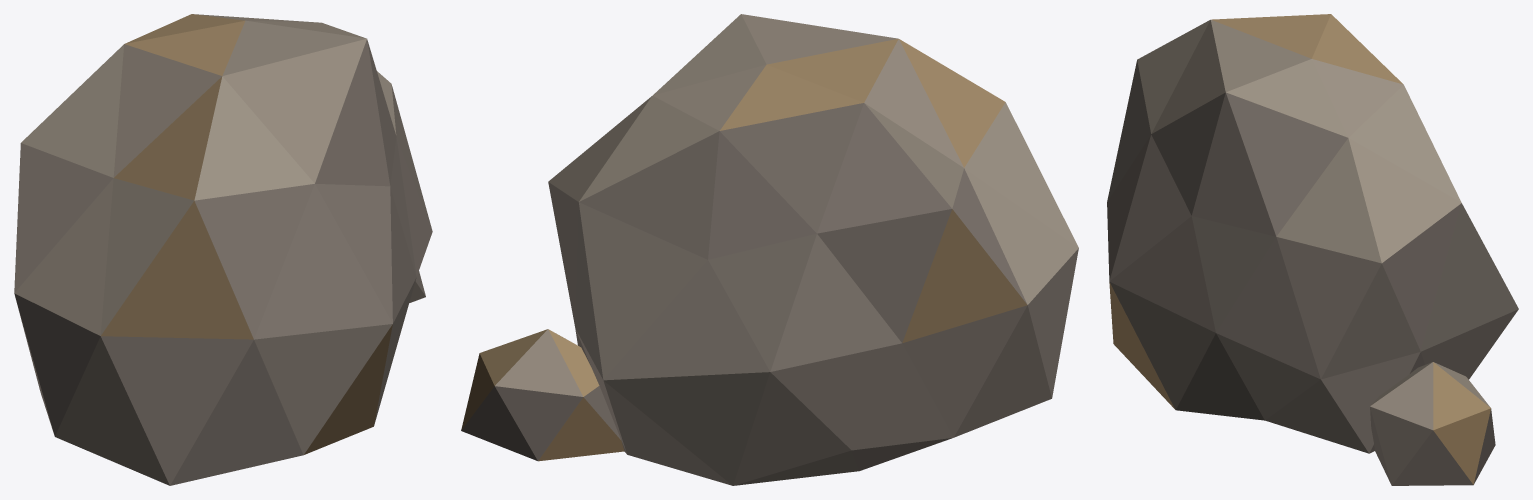
The model's file is rock_a.glb.
The picture shows the model from 3 angles, left to right: view 1: azimuth 30°, elevation 25°; view 2: azimuth 150°, elevation 25°; view 3: azimuth 270°, elevation 25°; orthographic projection. The views are drawn at different scales.
Visible parts, largest first — view 1: rock_a; view 2: rock_a; view 3: rock_a.
Part boxes in pixels (x1,y1,x2,y2): rock_a: (14,14,432,485); rock_a: (461,14,1078,485); rock_a: (1107,14,1518,485).
Bounding box in the file's own units: 1.11 × 0.8252 × 0.9265.
